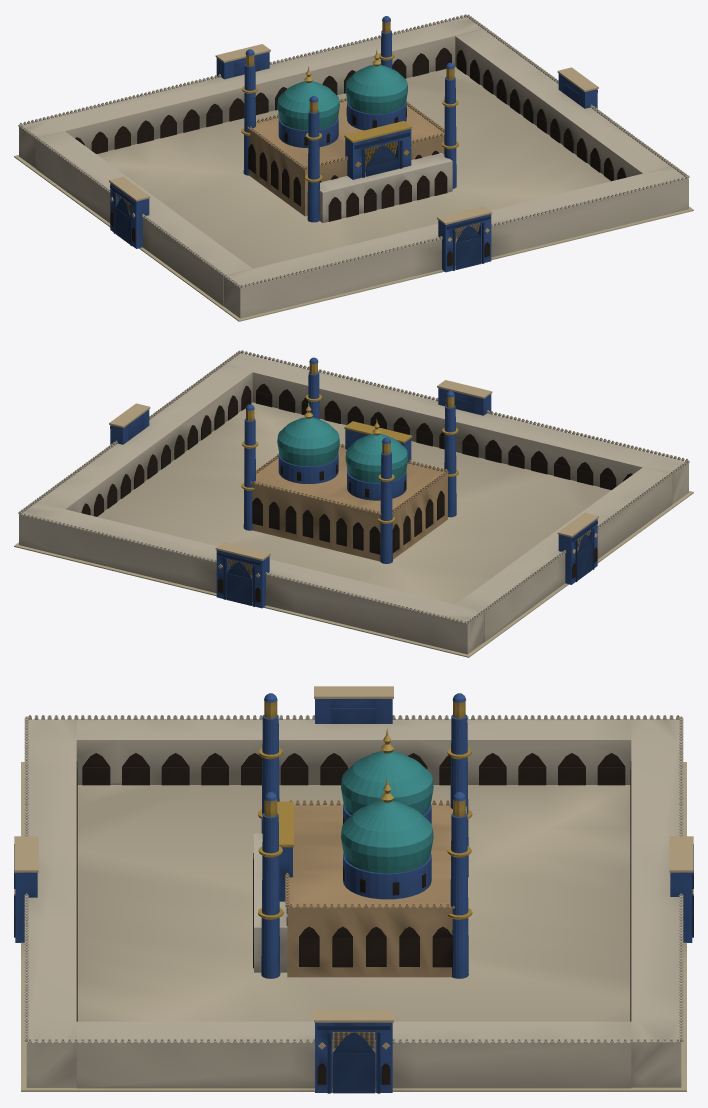
File: kazimayn.glb
3 renders of one model, top to bottom at view 1: azimuth 30°, elevation 25°; view 2: azimuth 150°, elevation 25°; view 3: azimuth 270°, elevation 25°, orthographic. The views are drawn at different scales.
Visible parts, largest first — view 1: p0_court, p1_gates, p2_shrine, p3_domes and minarets; view 2: p0_court, p1_gates, p2_shrine, p3_domes and minarets; view 3: p0_court, p1_gates, p2_shrine, p3_domes and minarets.
Boxes of the visible parts, x1,y1,x2,y2 form: p0_court: (14,14,693,321); p1_gates: (96,44,610,272); p2_shrine: (247,97,452,222); p3_domes and minarets: (241,16,458,222); p0_court: (14,350,693,657); p1_gates: (97,380,611,608); p2_shrine: (250,421,448,561); p3_domes and minarets: (241,357,458,563); p0_court: (21,715,686,1091); p1_gates: (14,686,693,1093); p2_shrine: (253,800,466,977); p3_domes and minarets: (258,693,472,978).
Bounding box in the file's own units: 143 × 36.71 × 123.
